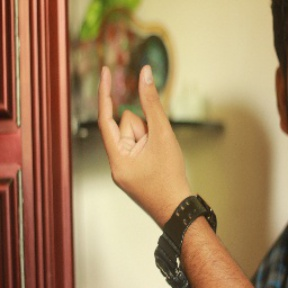U: (91, 57, 183, 189)
